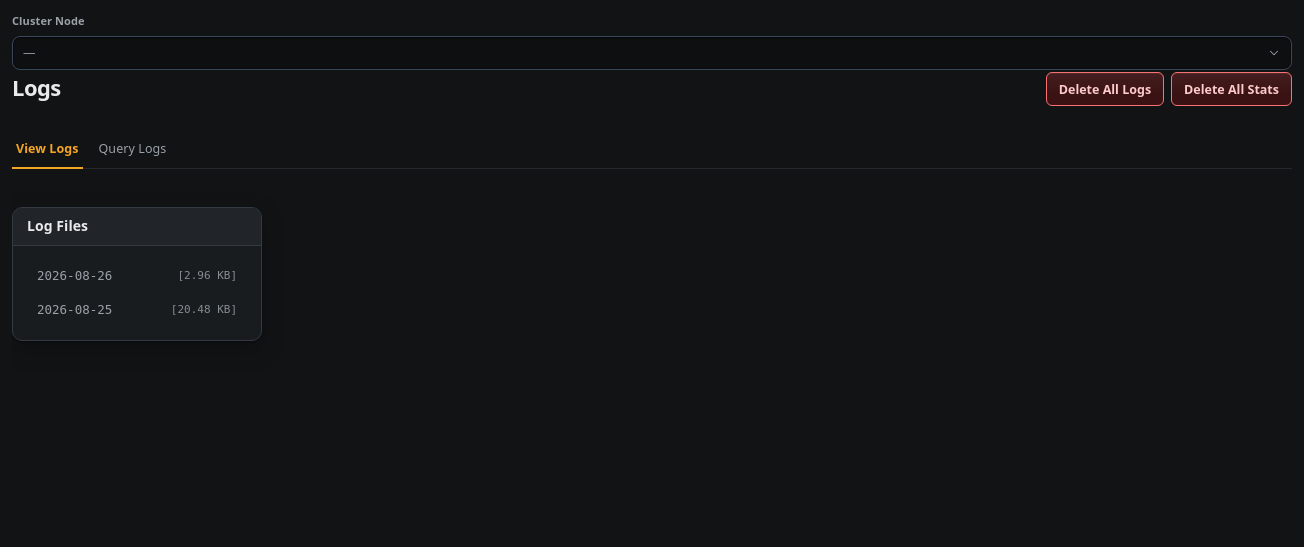
Scenario: Logs: changing the cluster node › View Logs closes the viewer when the new node has no such file
Click the text "2026-08-26" at (75, 276), box x1=37 y1=268 x2=112 y2=284
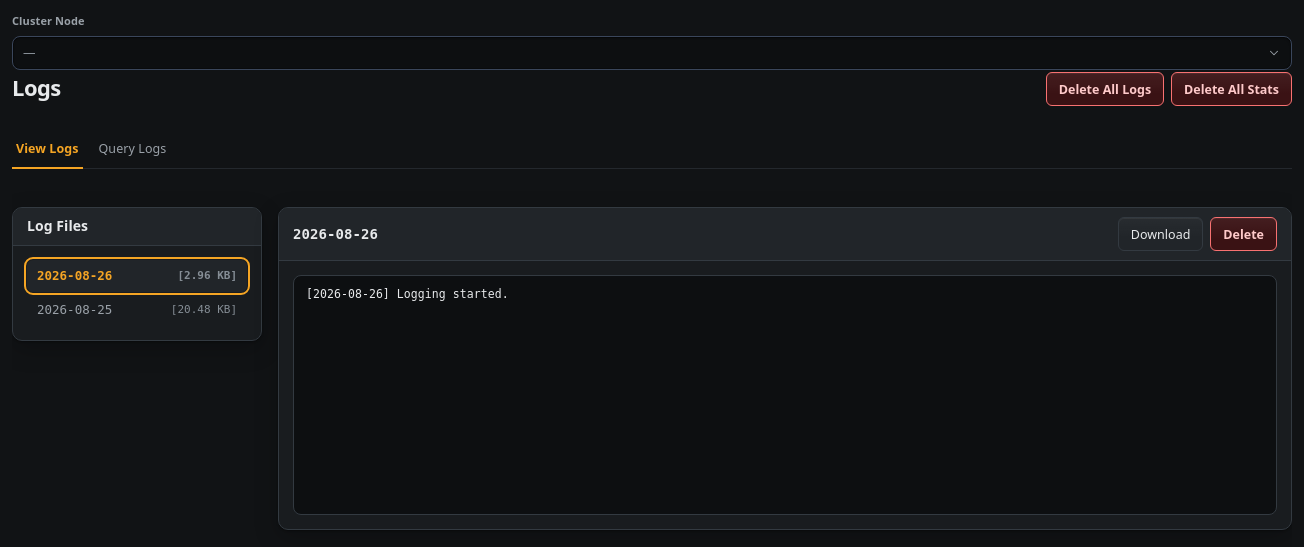
Check: the text "[2026-08-26] Logging started." is shown, box x1=306 y1=287 x2=509 y2=301
Click the dropdown named "Cluster Node" at (29, 53), box x1=12 y1=36 x2=1292 y2=70
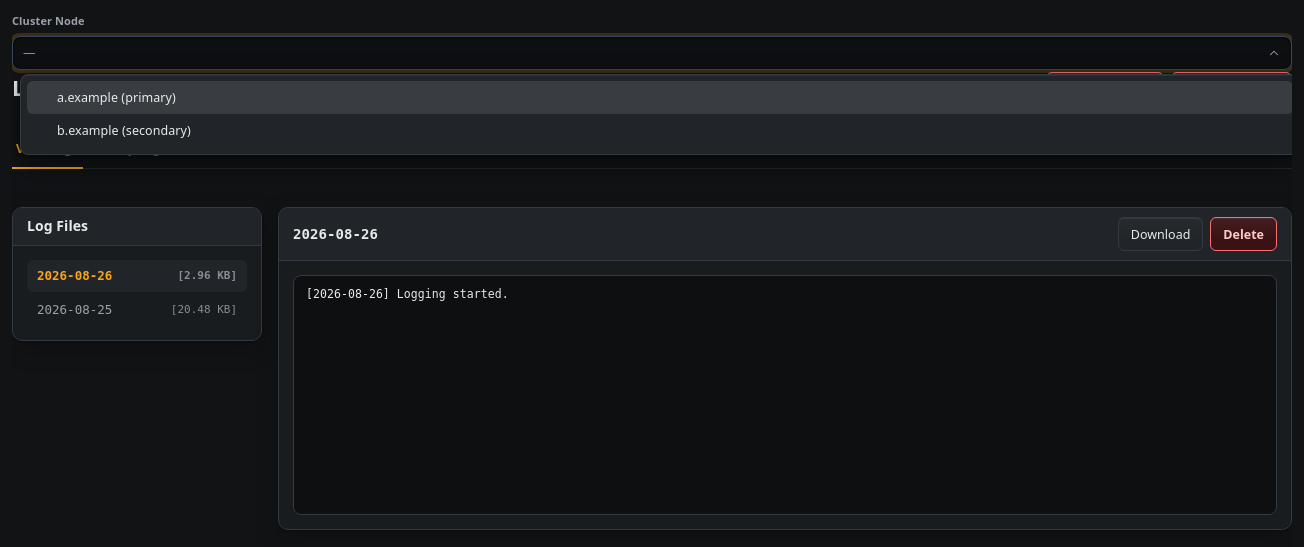
Click the option "b.example (secondary)" at (124, 131), box x1=57 y1=122 x2=191 y2=139
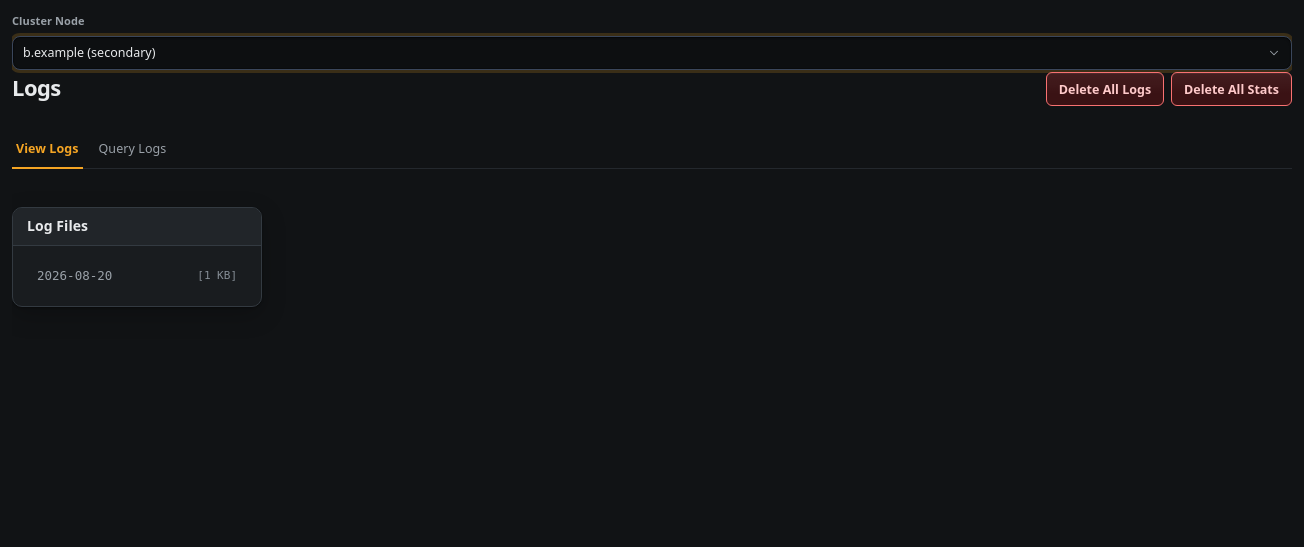
Check: the text "2026-08-20" is shown, box x1=37 y1=268 x2=112 y2=284
Check: the text "[2026-08-26] Logging started." is gone
